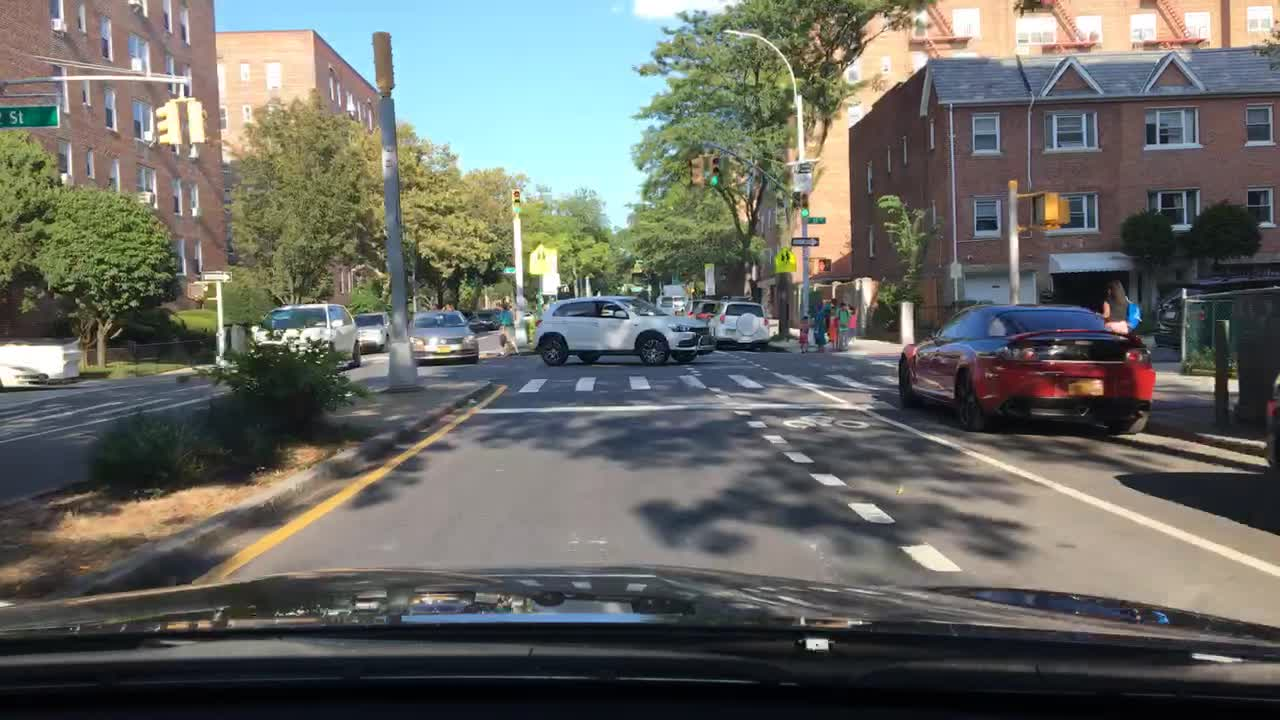car: (896, 301, 1156, 437), (534, 295, 716, 368), (1153, 272, 1279, 353), (254, 302, 364, 374), (408, 309, 481, 365), (709, 298, 772, 353), (1256, 374, 1279, 489), (352, 309, 392, 354), (654, 295, 686, 316), (691, 300, 721, 321), (476, 307, 502, 330), (682, 297, 707, 318), (460, 309, 480, 335), (518, 309, 536, 323)
person: (1096, 275, 1142, 339), (495, 301, 523, 359), (814, 303, 837, 349), (835, 303, 851, 354), (812, 312, 830, 356), (821, 300, 837, 345), (797, 314, 811, 357), (846, 299, 860, 338)
traffic light: (157, 95, 187, 149), (187, 95, 211, 147), (1044, 189, 1070, 226), (703, 157, 724, 188), (685, 156, 703, 187), (185, 280, 203, 299), (799, 196, 813, 215), (512, 188, 521, 217), (818, 259, 832, 272)
traffic sign: (2, 104, 59, 130), (526, 240, 554, 275), (774, 247, 799, 275), (792, 159, 811, 194), (790, 235, 818, 249), (204, 268, 232, 281), (805, 215, 829, 228), (500, 264, 516, 277)
